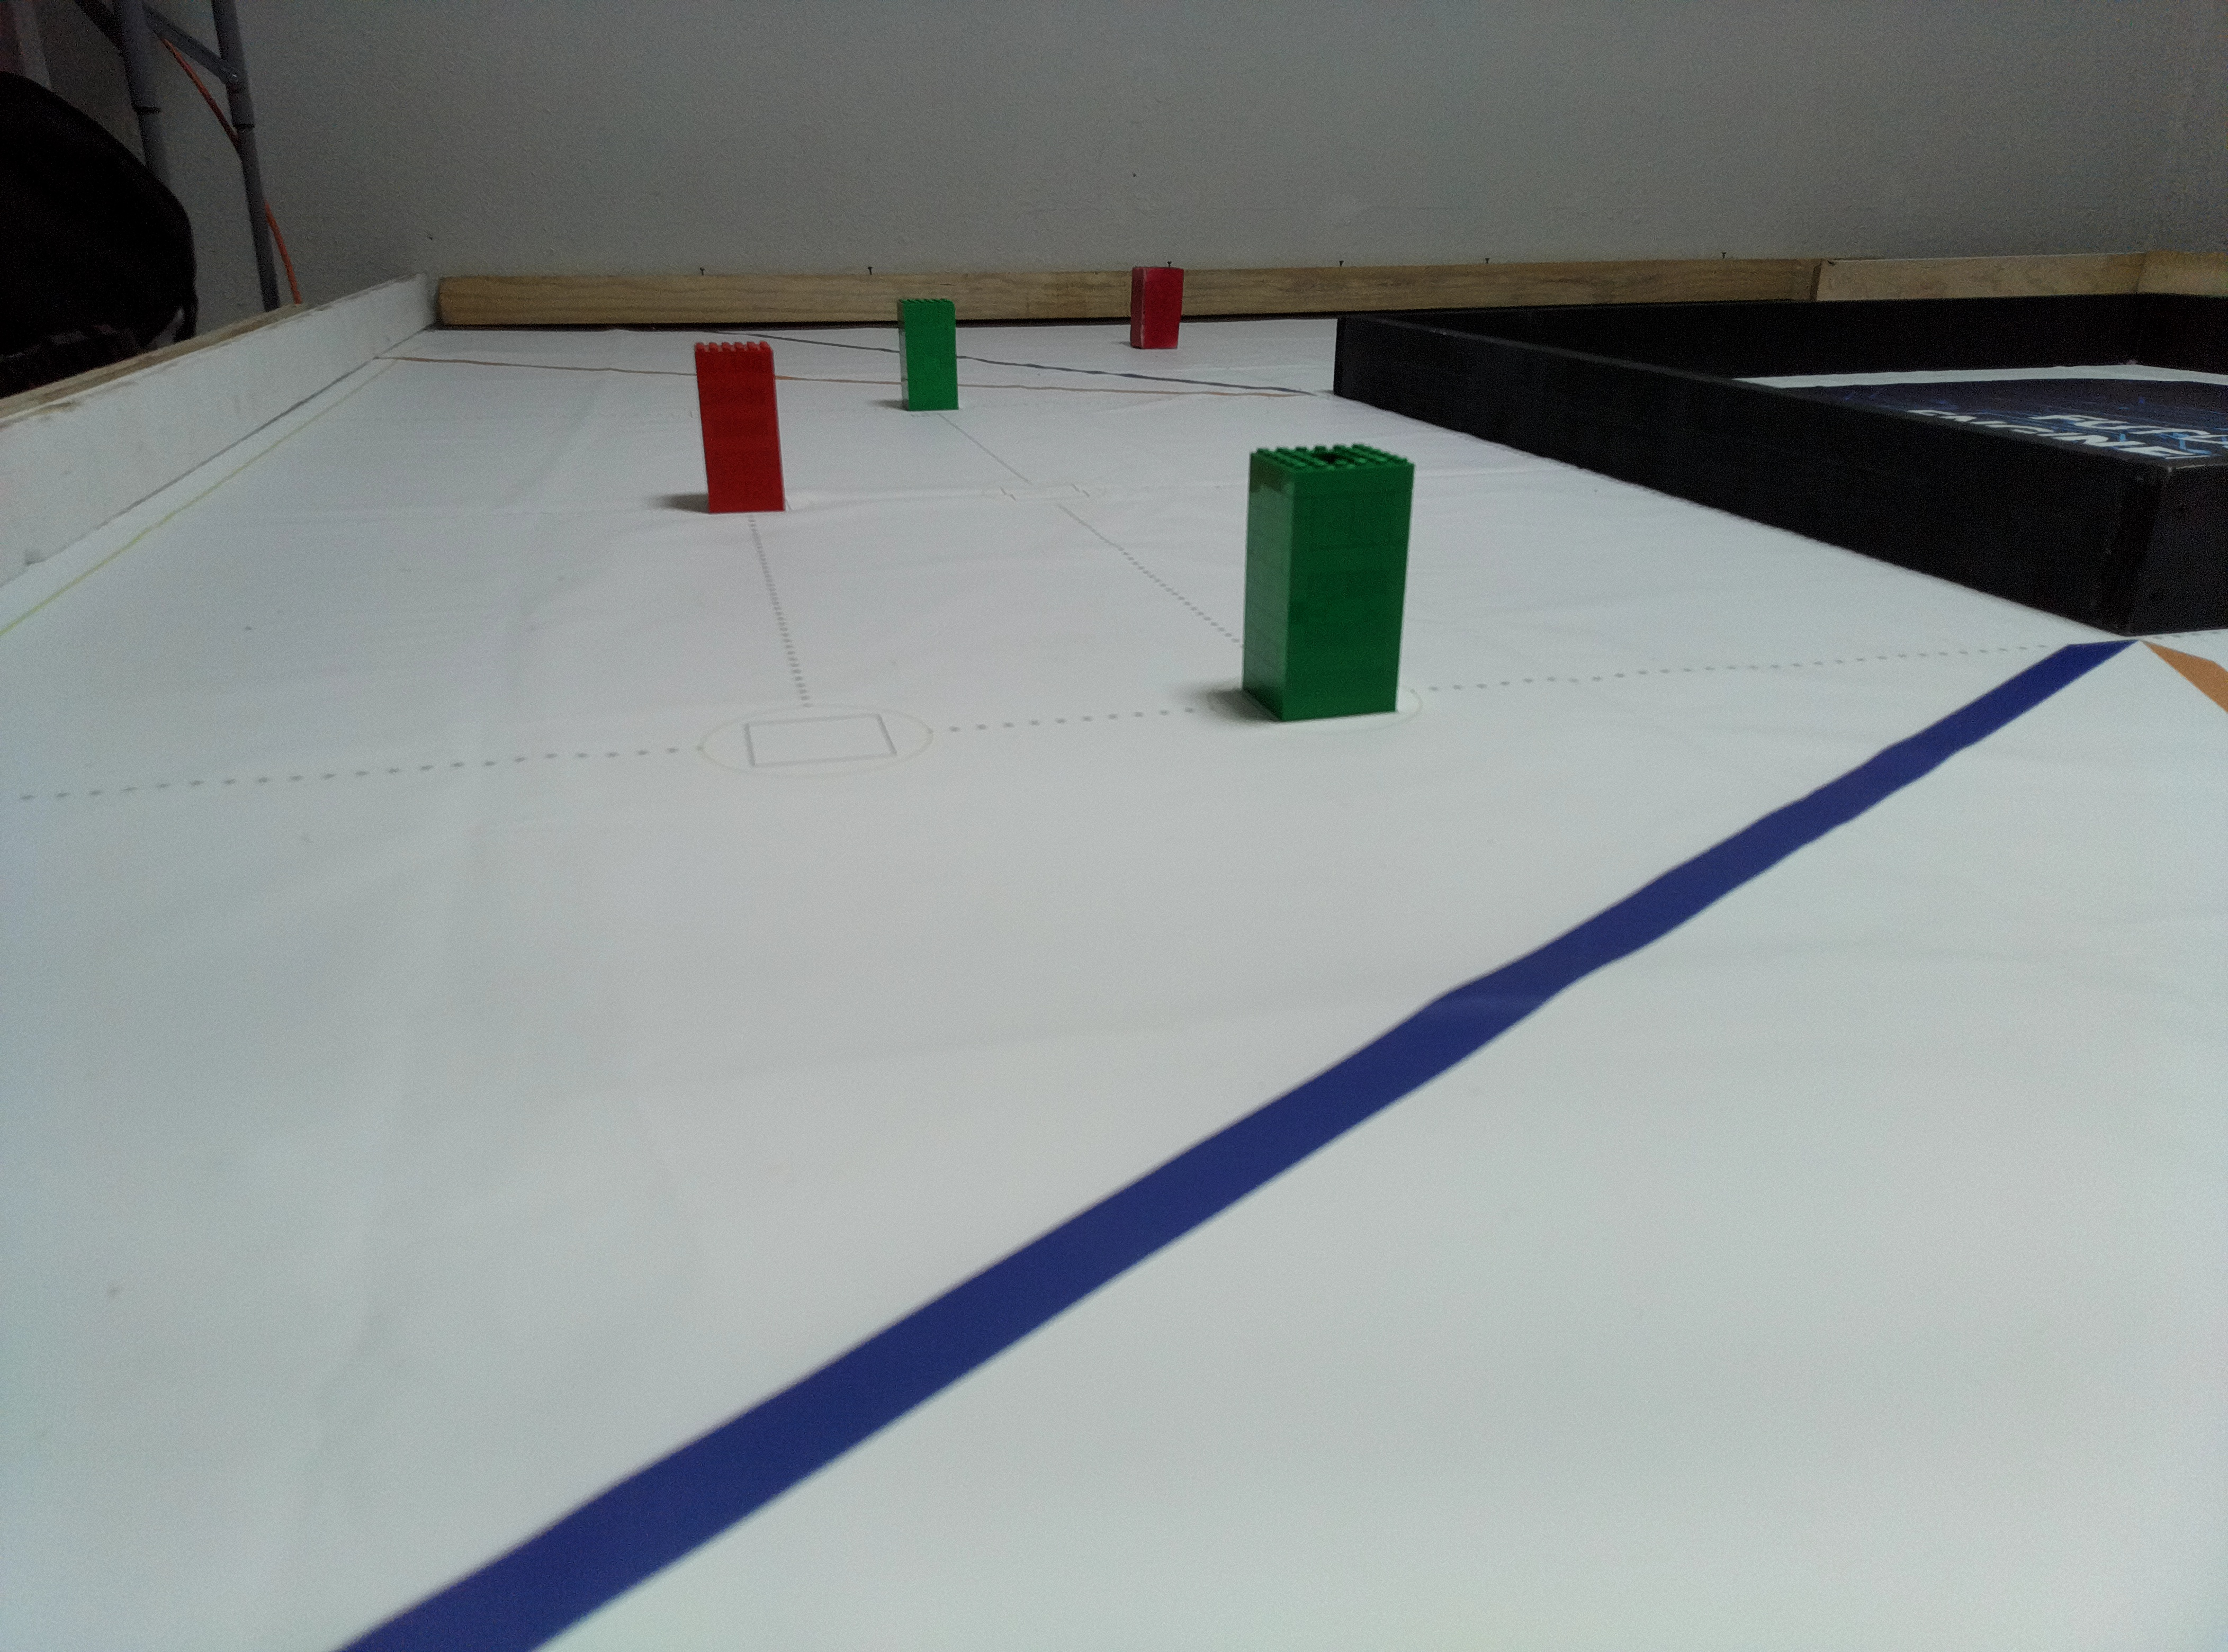greenbox: (1246, 425, 1418, 710), (897, 297, 958, 413)
redbox: (694, 330, 786, 517), (1128, 259, 1190, 357)
